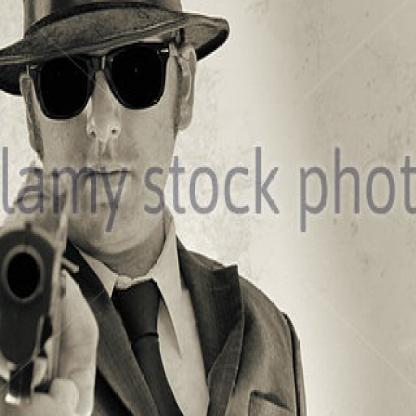gun: (0, 165, 72, 405)
